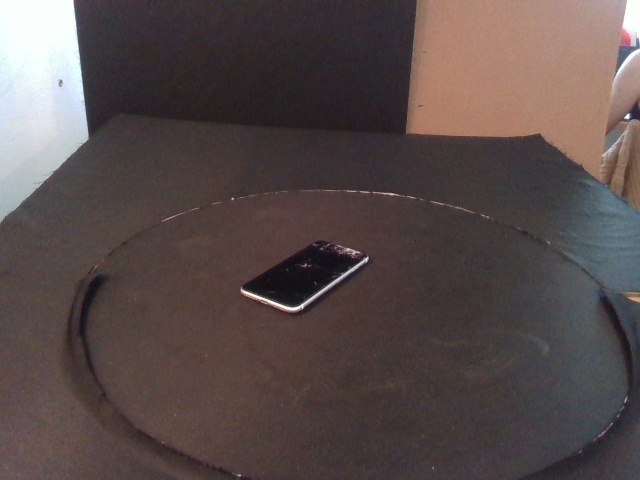phone: (239, 239, 372, 313)
